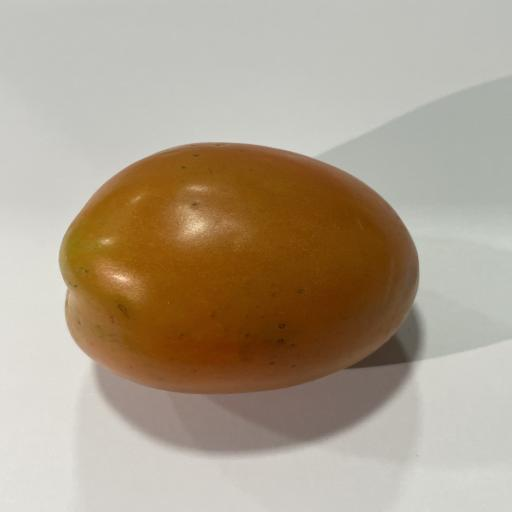unripe: (59, 142, 418, 393)
